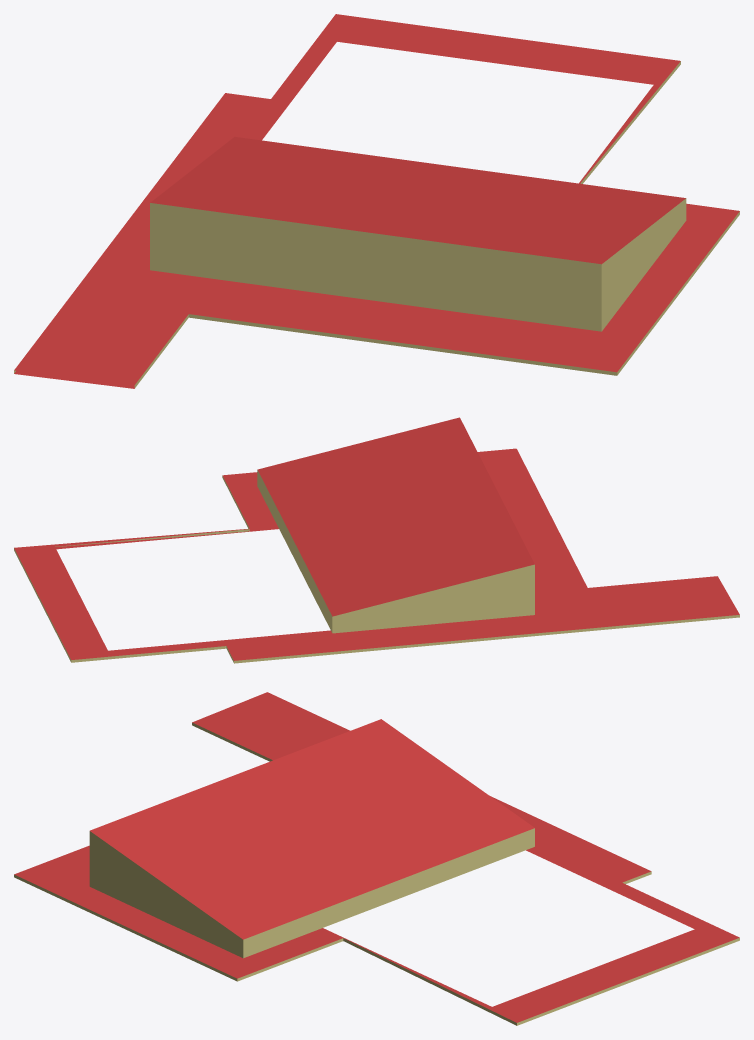
3 views of the same model, one above another, from view 1: azimuth 30°, elevation 25°; view 2: azimuth 150°, elevation 25°; view 3: azimuth 270°, elevation 25° (orthographic). The views are drawn at different scales.
Size of the model in its own units: 24.06 by 22.31 by 2.
